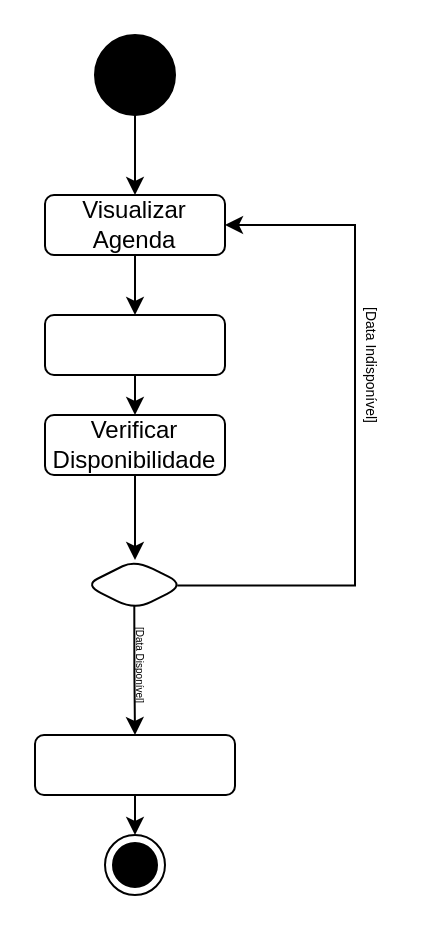
The diagram is 440 pixels wide and 930 high, and some of its shapes have lost their labels. Here are the shapes that lost their labels. From the top down, the box of each, then its label:
(43, 313, 225, 375): Escolher Data Disponivel
(33, 733, 235, 795): Confirmar Agendamento
